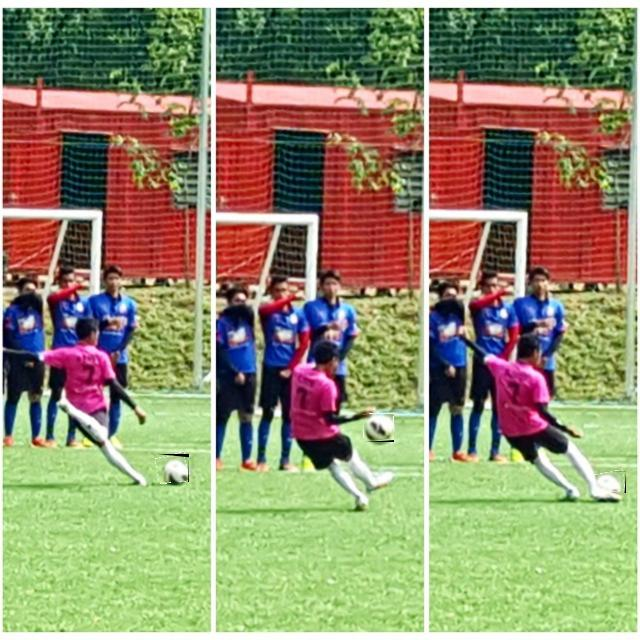Football: (157, 454, 189, 482), (364, 414, 394, 442), (596, 471, 626, 493)
